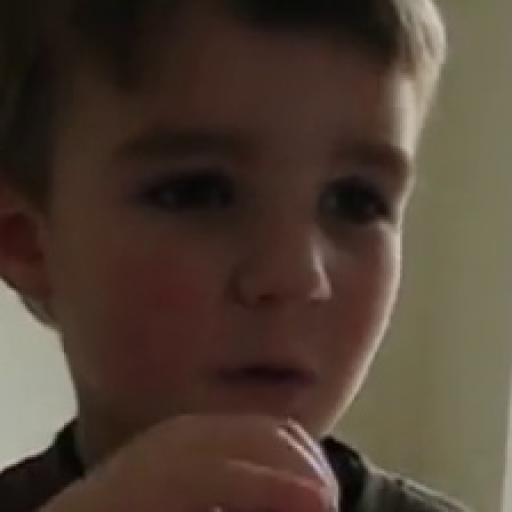Autism: (16, 5, 509, 512)
